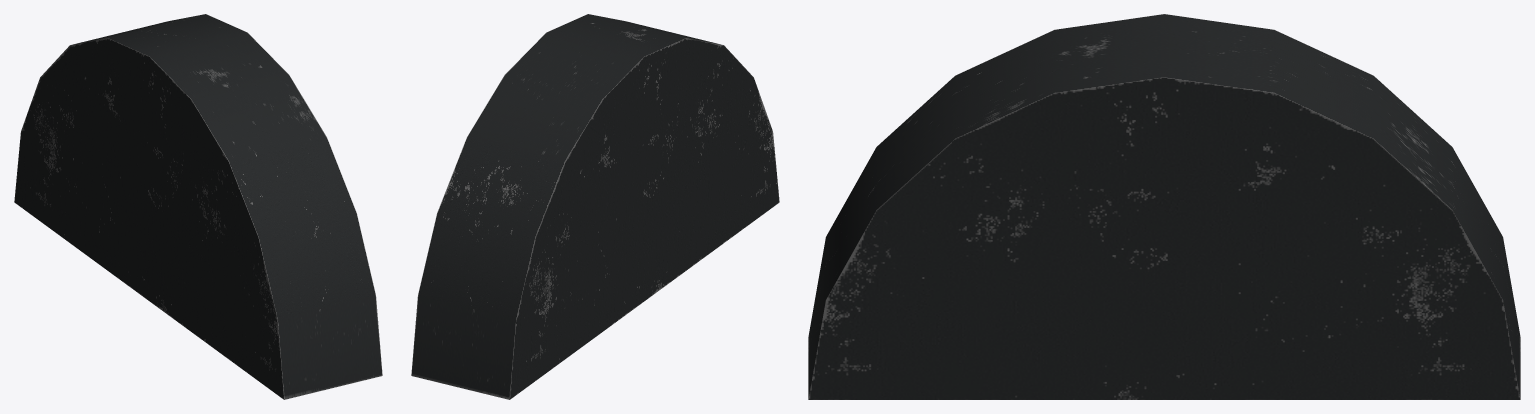
The model's file is Cylinder_LevelPiece.fbx.
3 views of the same model, side by side, from view 1: azimuth 30°, elevation 25°; view 2: azimuth 150°, elevation 25°; view 3: azimuth 270°, elevation 25° (orthographic). The views are drawn at different scales.
Visible parts, largest first — view 1: Cylinder_LevelPiece; view 2: Cylinder_LevelPiece; view 3: Cylinder_LevelPiece.
Part boxes in pixels (x1,y1,x2,y2): Cylinder_LevelPiece: [14, 14, 382, 399]; Cylinder_LevelPiece: [411, 14, 779, 399]; Cylinder_LevelPiece: [808, 14, 1520, 399].
Size of the model in its own units: 83.32 by 198 by 396.
